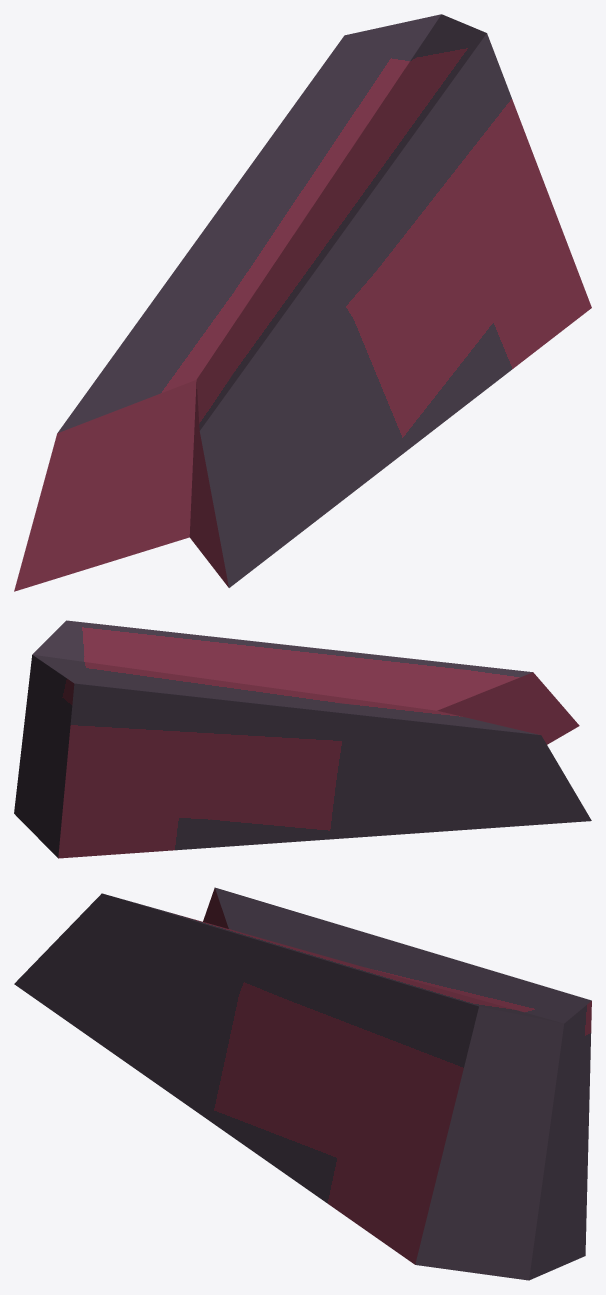
File: mantis_foot.glb
3 views of the same model, one above another, from view 1: azimuth 30°, elevation 25°; view 2: azimuth 150°, elevation 25°; view 3: azimuth 270°, elevation 25° (orthographic). The views are drawn at different scales.
Visible parts, largest first — view 1: Cube.139; view 2: Cube.139; view 3: Cube.139.
Part boxes in pixels (bbox=[...]): Cube.139: bbox=[14, 14, 591, 591]; Cube.139: bbox=[14, 620, 591, 858]; Cube.139: bbox=[14, 887, 591, 1280].
Size of the model in its own units: 0.9094 by 0.3805 by 0.7377.
1 material, 1 textured.
